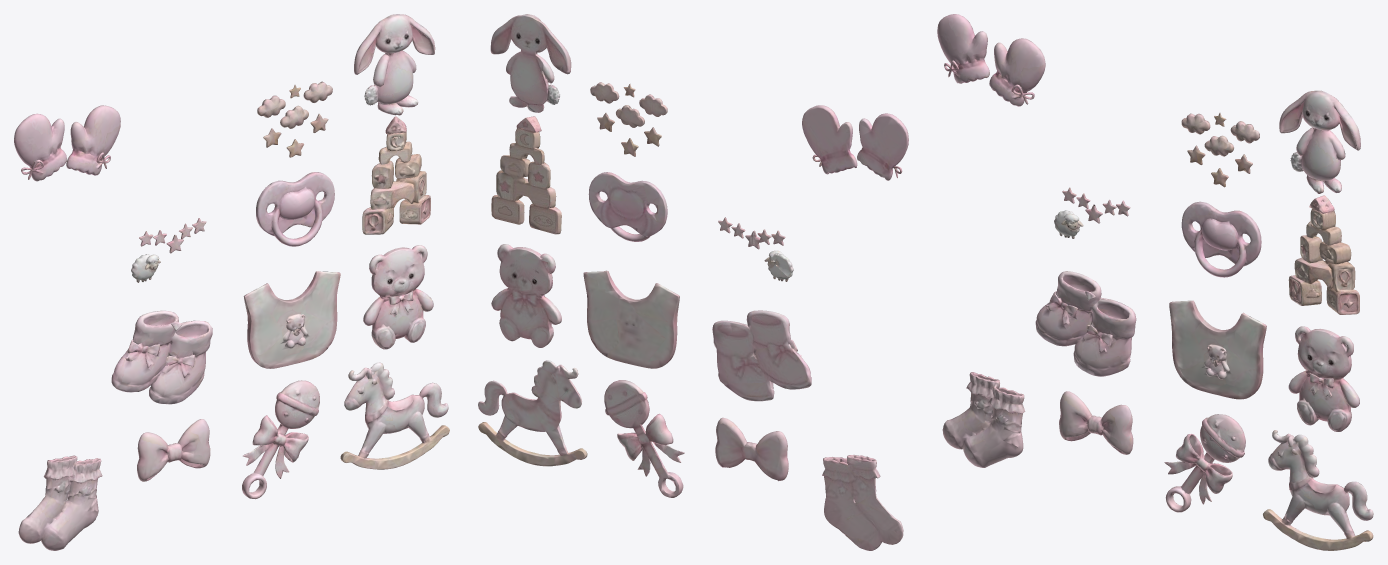
3 renders of one model, left to right at view 1: azimuth 30°, elevation 25°; view 2: azimuth 150°, elevation 25°; view 3: azimuth 330°, elevation 25°, orthographic.
Parts seen in each view (by area): view 1: Mesh 15, Mesh 11, Mesh 19, Mesh 22, Mesh 3, Mesh 20, Mesh 21, Mesh 14, Mesh 16, Mesh 8, Mesh 2, Mesh 5 (+3 smaller); view 2: Mesh 15, Mesh 11, Mesh 19, Mesh 3, Mesh 22, Mesh 21, Mesh 20, Mesh 14, Mesh 16, Mesh 8, Mesh 5, Mesh 2 (+3 smaller); view 3: Mesh 15, Mesh 11, Mesh 19, Mesh 22, Mesh 21, Mesh 3, Mesh 20, Mesh 14, Mesh 16, Mesh 5, Mesh 8, Mesh 2 (+3 smaller).
Part boxes in pixels (x1,y1,x2,y2): Mesh 15: [243, 271, 340, 368]; Mesh 11: [111, 310, 212, 404]; Mesh 19: [340, 362, 449, 469]; Mesh 22: [363, 245, 433, 349]; Mesh 3: [18, 455, 102, 550]; Mesh 20: [354, 14, 435, 115]; Mesh 21: [362, 116, 430, 234]; Mesh 14: [242, 380, 319, 499]; Mesh 16: [256, 172, 334, 246]; Mesh 8: [137, 419, 210, 481]; Mesh 2: [14, 113, 66, 181]; Mesh 5: [66, 105, 120, 175]; Mesh 15: [583, 270, 679, 368]; Mesh 11: [712, 310, 811, 401]; Mesh 19: [478, 360, 587, 466]; Mesh 3: [822, 455, 903, 550]; Mesh 22: [491, 244, 561, 347]; Mesh 21: [491, 116, 561, 234]; Mesh 20: [490, 14, 571, 112]; Mesh 14: [604, 380, 684, 497]; Mesh 16: [588, 172, 667, 241]; Mesh 8: [715, 417, 788, 481]; Mesh 5: [802, 105, 857, 174]; Mesh 2: [857, 113, 908, 180]; Mesh 15: [1169, 300, 1266, 399]; Mesh 11: [1035, 271, 1136, 376]; Mesh 19: [1263, 430, 1373, 550]; Mesh 22: [1288, 326, 1359, 431]; Mesh 21: [1288, 195, 1359, 314]; Mesh 3: [942, 372, 1025, 467]; Mesh 20: [1279, 90, 1360, 193]; Mesh 14: [1164, 414, 1245, 512]; Mesh 16: [1181, 201, 1261, 277]; Mesh 5: [989, 38, 1045, 106]; Mesh 8: [1059, 391, 1133, 454]; Mesh 2: [937, 14, 989, 83].
Bounding box in the file's own units: 1.89 × 1.89 × 0.0638.
15 materials, 15 textured.
